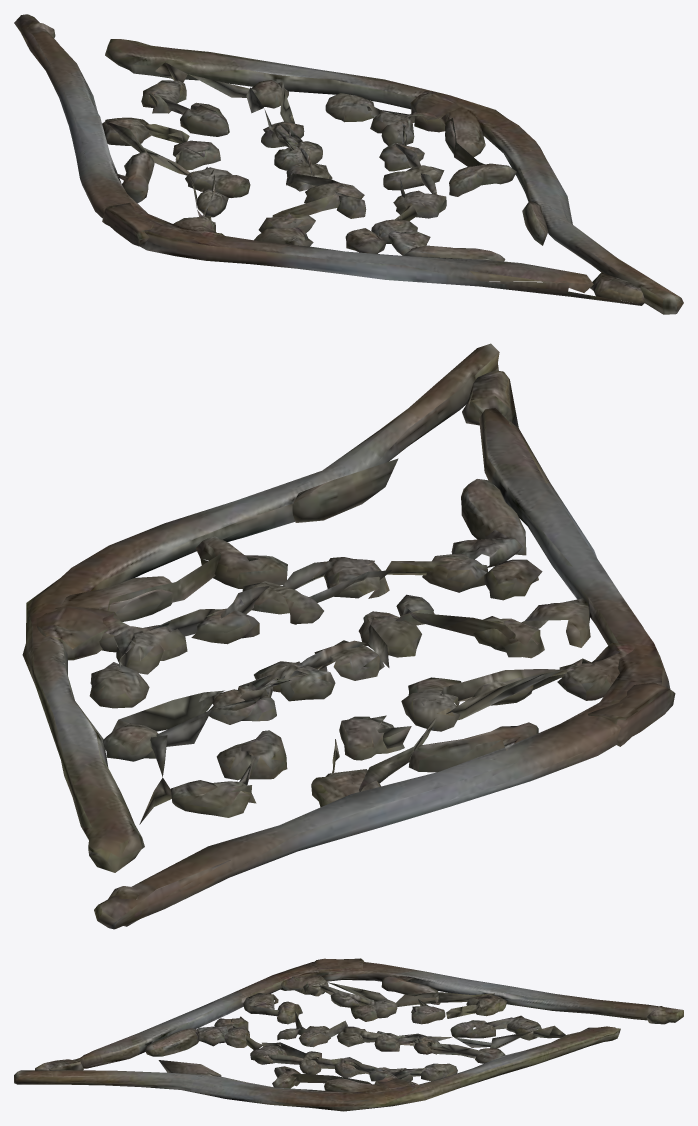
Rendered from av_grade.glb.
3 renders of one model, top to bottom at view 1: azimuth 30°, elevation 25°; view 2: azimuth 150°, elevation 25°; view 3: azimuth 270°, elevation 25°, orthographic. The views are drawn at different scales.
Parts seen in each view (by area): view 1: Mesh_0; view 2: Mesh_0; view 3: Mesh_0.
Part boxes in pixels (box(x1,y1,x2,y2)): Mesh_0: box(14, 14, 683, 314); Mesh_0: box(22, 343, 675, 929); Mesh_0: box(14, 958, 683, 1111).
Bounding box in the file's own units: 0.1875 × 0.0129 × 0.374.
1 material, 1 textured.
